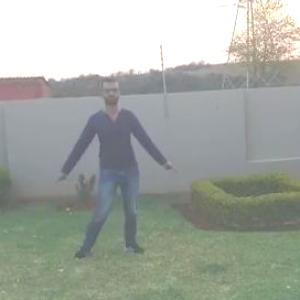land: (42, 66, 171, 282)
